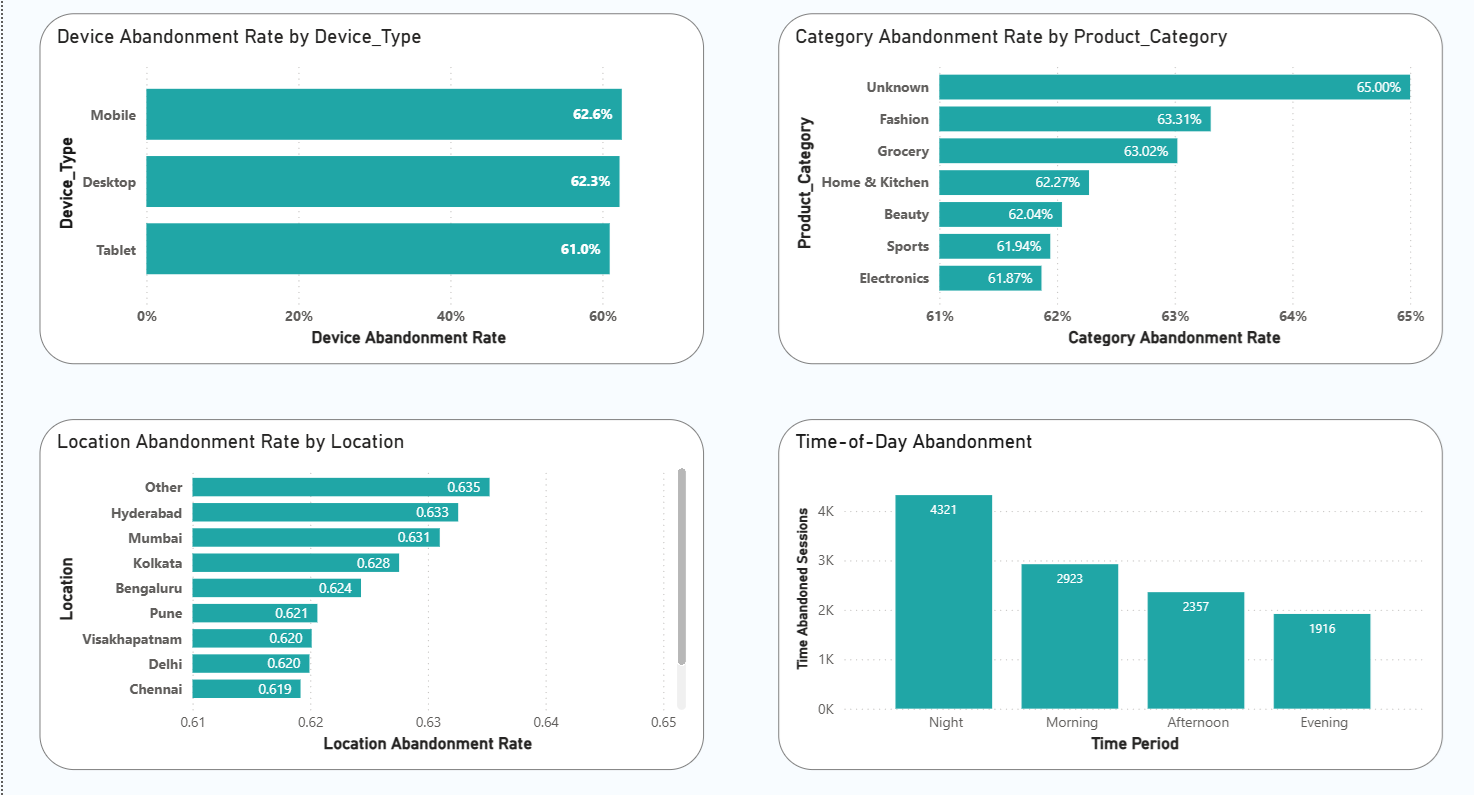

This screenshot's page, from the dashboard's own definition file:
{"tool":"powerbi","page":{"name":"Information","canvas":[1280,720],"ordinal":1},"visuals":[{"type":"clusteredBarChart","fields":{"Category":["customer sessions.Device_Type"],"Y":["Checkout Funnel.Device Abandonment Rate"]},"box":[32,16,576,304],"z":0},{"type":"clusteredBarChart","fields":{"Category":["cart product activity clean.Product_Category"],"Y":["Checkout Funnel.Category Abandonment Rate"]},"box":[672,16,576,304],"z":1000},{"type":"clusteredBarChart","fields":{"Category":["customer sessions.Location"],"Y":["customer sessions.Location Abandonment Rate"]},"box":[32,368,576,304],"z":2000},{"type":"clusteredColumnChart","title":" Time-of-Day Abandonment","fields":{"Category":["customer sessions.Time Period"],"Y":["cart product activity clean.Time Abandoned Sessions"]},"box":[672,368,576,304],"z":3000}]}

Visuals, with their boxes on the page's 1280x720 design canvas (x1, y1, x2, y2). These are canvas units, not pixel positions in the 1474x795 screenshot, which may show the page scaled, cropped or inside an application window:
clusteredBarChart - customer sessions.Device_Type x Checkout Funnel.Device Abandonment Rate: x1=32 y1=16 x2=608 y2=320
clusteredBarChart - cart product activity clean.Product_Category x Checkout Funnel.Category Abandonment Rate: x1=672 y1=16 x2=1248 y2=320
clusteredBarChart - customer sessions.Location x customer sessions.Location Abandonment Rate: x1=32 y1=368 x2=608 y2=672
" Time-of-Day Abandonment" clusteredColumnChart: x1=672 y1=368 x2=1248 y2=672
